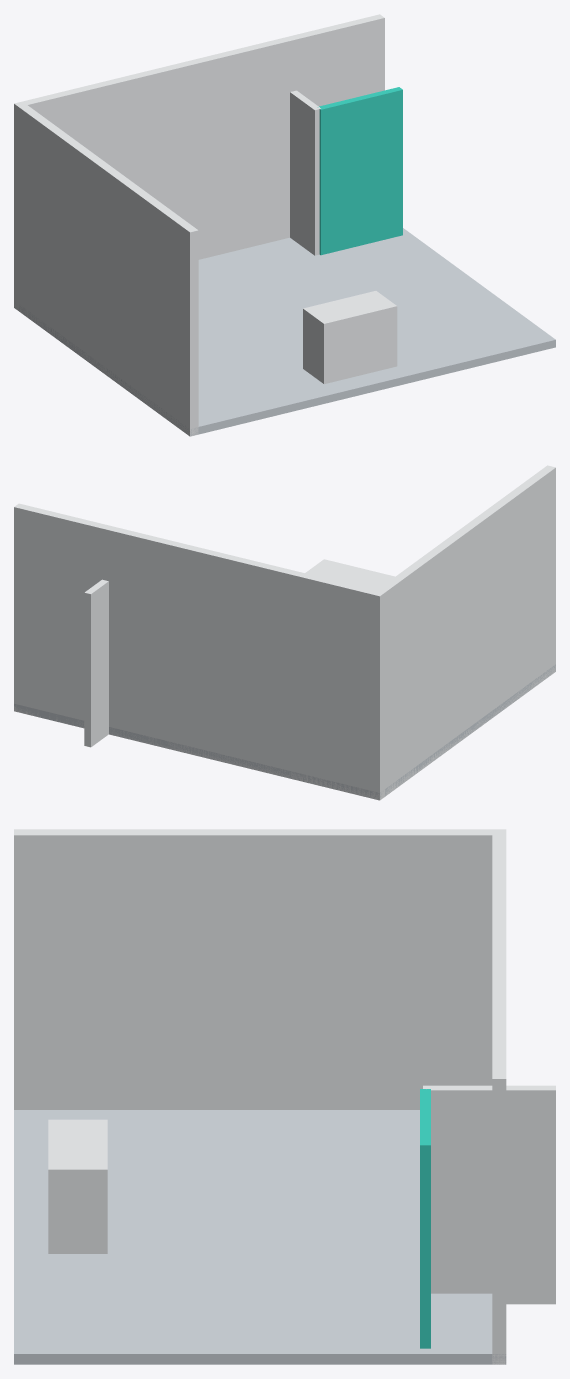
The picture shows the model from 3 angles, top to bottom: view 1: azimuth 30°, elevation 25°; view 2: azimuth 150°, elevation 25°; view 3: azimuth 270°, elevation 25°; orthographic projection. The views are drawn at different scales.
Visible parts, largest first — view 1: Exhibition Booth Concept; view 2: Exhibition Booth Concept; view 3: Exhibition Booth Concept.
Part boxes in pixels (x1,y1,x2,y2): Exhibition Booth Concept: (14, 14, 555, 436); Exhibition Booth Concept: (14, 465, 555, 800); Exhibition Booth Concept: (14, 829, 555, 1364).
Size of the model in its own units: 6 by 3.2 by 5.51.
